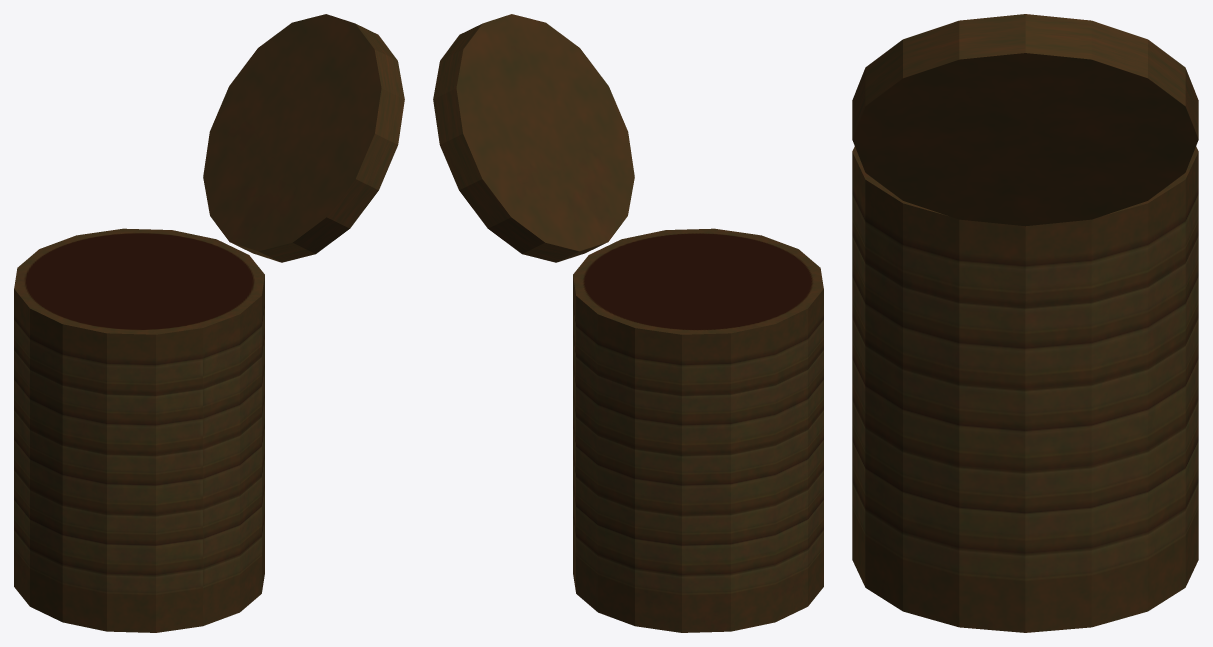
File: mod_item_rustycan.fbx
3 renders of one model, left to right at view 1: azimuth 30°, elevation 25°; view 2: azimuth 150°, elevation 25°; view 3: azimuth 270°, elevation 25°, orthographic. The views are drawn at different scales.
Visible parts, largest first — view 1: mesh_can; view 2: mesh_can; view 3: mesh_can.
Part boxes in pixels (box(x1,y1,x2,y2)): mesh_can: box(14, 14, 404, 632); mesh_can: box(433, 14, 823, 632); mesh_can: box(852, 14, 1198, 632).
Size of the model in its own units: 318 by 439 by 200.
